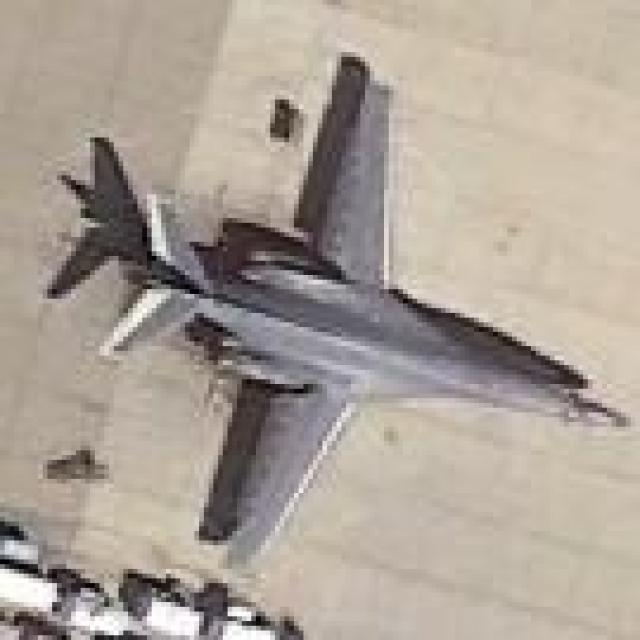B-1_TopDown: (38, 47, 630, 569)
